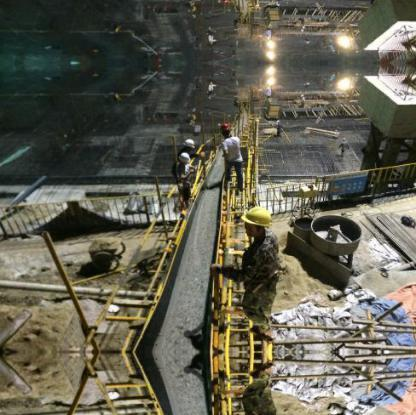helmet: (240, 198, 275, 234), (217, 118, 234, 137), (181, 136, 198, 153), (177, 150, 193, 168)
